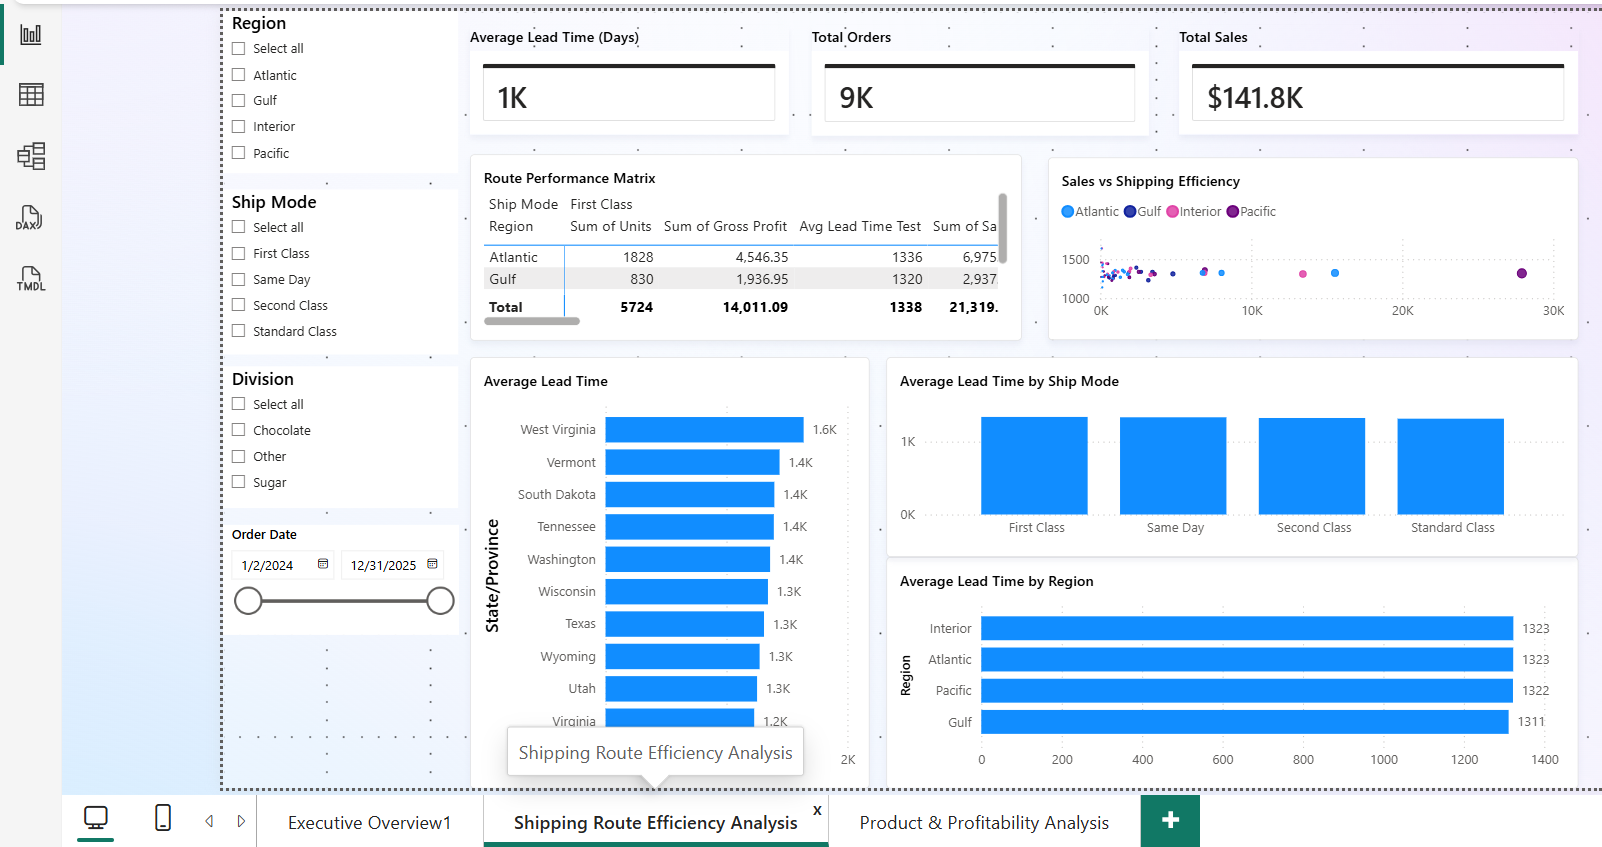

What the dashboard file says about the page in this screenshot:
{"tool":"powerbi","page":{"name":"Shipping Route Efficiency Analysis","canvas":[1280,720],"ordinal":1},"visuals":[{"type":"cardVisual","title":"Average Lead Time (Days)","fields":{"Data":["Nassau Candy Distributor.Avg Lead Time Test"]},"box":[228.7,14.1,295.1,100.2],"z":0},{"type":"cardVisual","title":"Total Orders","fields":{"Data":["Nassau Candy Distributor.Total Orders"]},"box":[544.9,14.1,312,101.6],"z":1000},{"type":"cardVisual","title":"Total Sales","fields":{"Data":["Nassau Candy Distributor.Total Sales"]},"box":[885.2,14.1,369.9,100.2],"z":2000},{"type":"clusteredBarChart","title":"Average Lead Time by Region","fields":{"Category":["Nassau Candy Distributor.Region"],"Y":["Nassau Candy Distributor.Avg Lead Time Test"]},"box":[614.1,505.4,640.9,214.6],"z":3000},{"type":"clusteredColumnChart","title":"Average Lead Time by Ship Mode","fields":{"Category":["Nassau Candy Distributor.Ship Mode"],"Y":["Nassau Candy Distributor.Avg Lead Time Test"]},"box":[614.1,320.5,640.9,184.9],"z":4000},{"type":"barChart","title":"Average Lead Time","fields":{"Category":["Nassau Candy Distributor.State/Province"],"Y":["Nassau Candy Distributor.Avg Lead Time Test"]},"box":[228.7,320.5,369.9,399.5],"z":5000},{"type":"pivotTable","title":"Route Performance Matrix","fields":{"Rows":["Nassau Candy Distributor.Region"],"Columns":["Nassau Candy Distributor.Ship Mode"],"Values":["Sum(Nassau Candy Distributor.Units)","Sum(Nassau Candy Distributor.Gross Profit)","Nassau Candy Distributor.Avg Lead Time Test","Sum(Nassau Candy Distributor.Sales)"]},"box":[228.7,132.7,511.1,172.2],"z":6000},{"type":"scatterChart","title":"Sales vs Shipping Efficiency","fields":{"X":["Sum(Nassau Candy Distributor.Sales)"],"Y":["Avg(Nassau Candy Distributor.Lead Time Days)"],"Size":["Sum(Nassau Candy Distributor.Gross Profit)"],"Series":["Nassau Candy Distributor.Region"],"Category":["Nassau Candy Distributor.State/Province"]},"box":[763.8,135.5,491.3,169.4],"z":7000},{"type":"slicer","fields":{"Values":["Nassau Candy Distributor.Region"]},"box":[0,0,217.6,150.4],"z":8000},{"type":"slicer","fields":{"Values":["Nassau Candy Distributor.Ship Mode"]},"box":[0,165.2,217.4,152.5],"z":9000},{"type":"slicer","fields":{"Values":["Nassau Candy Distributor.Division"]},"box":[0,328.9,217.4,131.3],"z":10000},{"type":"slicer","fields":{"Values":["Nassau Candy Distributor.Order Date"]},"box":[0,475.8,217.4,101.6],"z":11000}]}

Visuals, with their boxes on the page's 1280x720 design canvas (x1, y1, x2, y2). These are canvas units, not pixel positions in the 1602x847 screenshot, which may show the page scaled, cropped or inside an application window:
"Average Lead Time (Days)" cardVisual: <bbox>229, 14, 524, 114</bbox>
"Total Orders" cardVisual: <bbox>545, 14, 857, 116</bbox>
"Total Sales" cardVisual: <bbox>885, 14, 1255, 114</bbox>
"Average Lead Time by Region" clusteredBarChart: <bbox>614, 505, 1255, 720</bbox>
"Average Lead Time by Ship Mode" clusteredColumnChart: <bbox>614, 320, 1255, 505</bbox>
"Average Lead Time" barChart: <bbox>229, 320, 599, 720</bbox>
"Route Performance Matrix" pivotTable: <bbox>229, 133, 740, 305</bbox>
"Sales vs Shipping Efficiency" scatterChart: <bbox>764, 136, 1255, 305</bbox>
slicer - Nassau Candy Distributor.Region: <bbox>0, 0, 218, 150</bbox>
slicer - Nassau Candy Distributor.Ship Mode: <bbox>0, 165, 217, 318</bbox>
slicer - Nassau Candy Distributor.Division: <bbox>0, 329, 217, 460</bbox>
slicer - Nassau Candy Distributor.Order Date: <bbox>0, 476, 217, 577</bbox>
